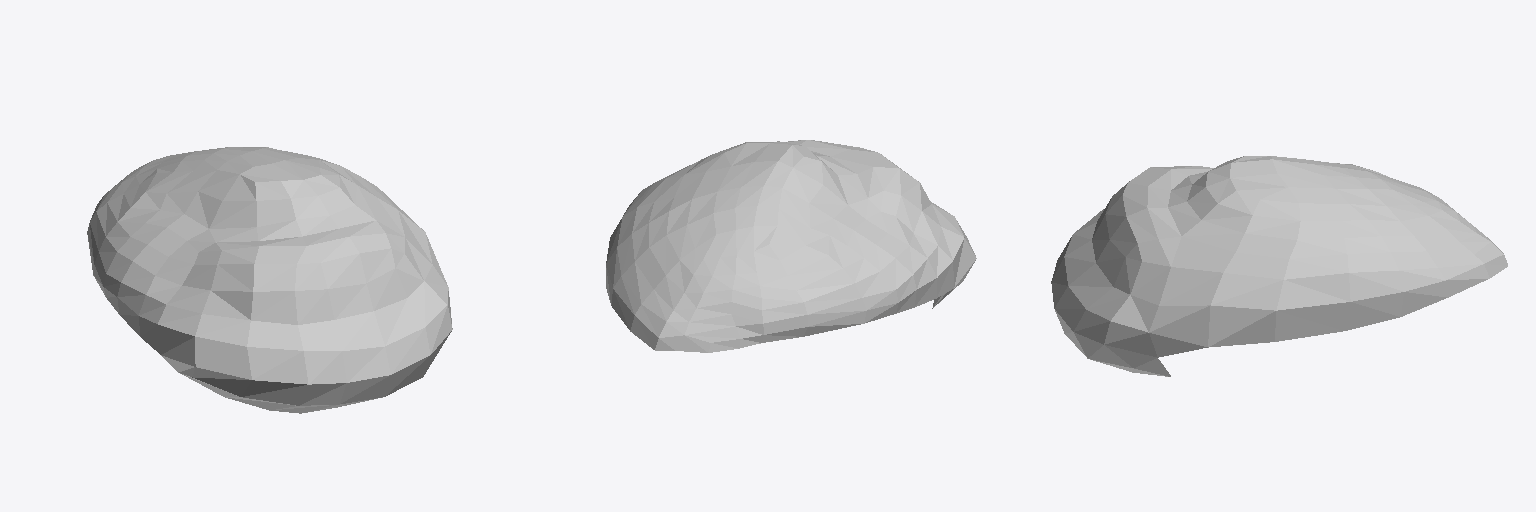
The model's file is mayo.obj.
3 views of the same model, side by side, from view 1: azimuth 30°, elevation 25°; view 2: azimuth 150°, elevation 25°; view 3: azimuth 270°, elevation 25° (orthographic).
Visible parts, largest first — view 1: sp.mayo; view 2: sp.mayo; view 3: sp.mayo.
Part boxes in pixels (x1,y1,x2,y2): sp.mayo: (87,147,452,413); sp.mayo: (606,140,976,352); sp.mayo: (1051,156,1507,376).
Size of the model in its own units: 0.0405 by 0.0252 by 0.0557.